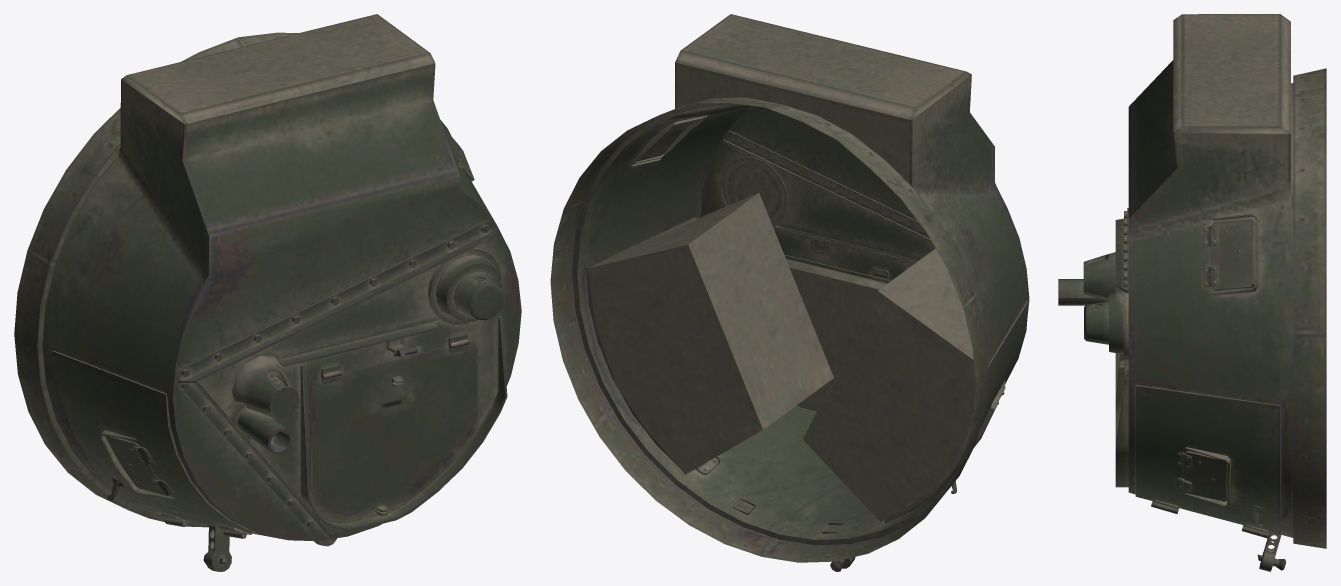
Rendered from Turret_01.glb.
3 renders of one model, left to right at view 1: azimuth 30°, elevation 25°; view 2: azimuth 150°, elevation 25°; view 3: azimuth 270°, elevation 25°, orthographic. The views are drawn at different scales.
Parts seen in each view (by area): view 1: set_0_group_0; view 2: set_0_group_0; view 3: set_0_group_0.
Boxes of the visible parts, x1,y1,x2,y2 form: set_0_group_0: (14,14,521,571); set_0_group_0: (550,14,1029,571); set_0_group_0: (1058,14,1326,571).
Bounding box in the file's own units: 1.31 × 1.42 × 0.7336.
1 material, 1 textured.
